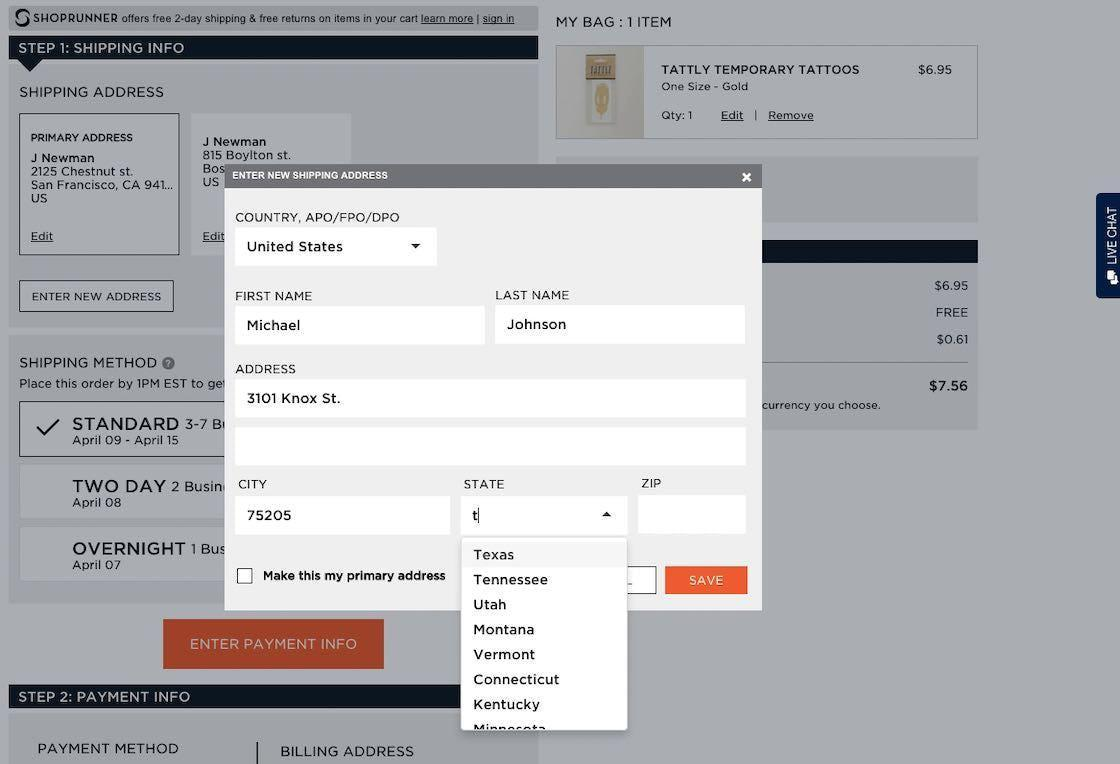button: (162, 621, 383, 668), (665, 565, 748, 597)
checkbox: (237, 568, 255, 586)
dropdown: (237, 229, 438, 267), (462, 496, 630, 537)
input: (236, 379, 749, 422), (236, 427, 746, 467), (236, 304, 488, 346), (496, 305, 746, 347), (233, 495, 450, 536), (641, 495, 749, 536)
label: (12, 37, 191, 60), (262, 567, 456, 588), (19, 346, 158, 374), (12, 688, 191, 709), (653, 63, 865, 78), (236, 209, 410, 227), (552, 13, 679, 37), (20, 83, 179, 99), (235, 283, 317, 305), (491, 288, 578, 306), (235, 360, 305, 379), (464, 477, 509, 494), (237, 474, 272, 495), (637, 473, 669, 494)
